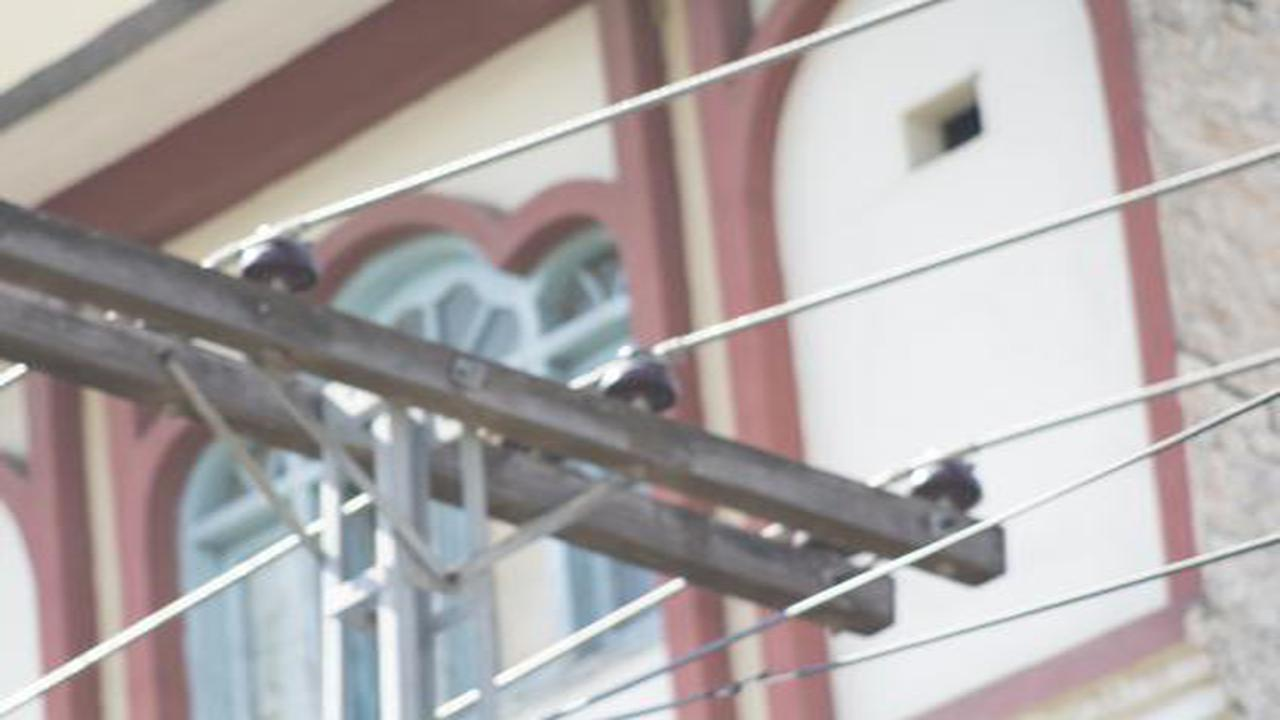insulator_pin: (234, 221, 326, 293), (604, 339, 679, 411), (913, 447, 993, 514)
